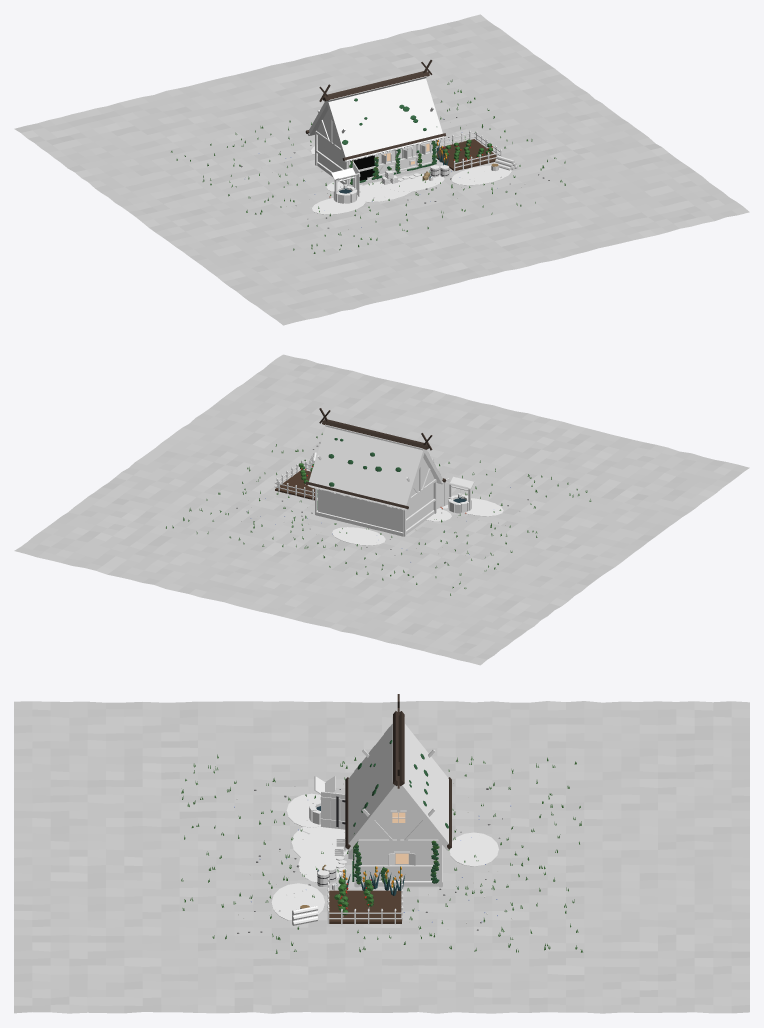
File: farmhouse.glb
3 views of the same model, one above another, from view 1: azimuth 30°, elevation 25°; view 2: azimuth 150°, elevation 25°; view 3: azimuth 270°, elevation 25° (orthographic). The views are drawn at different scales.
Visible parts, largest first — view 1: Ground, Roof, House, Garden, Props, Grass, Well; view 2: Ground, Roof, House, Garden, Grass, Well; view 3: Ground, Roof, House, Garden, Grass, Props, BarnDoor, Vines, Well.
Part boxes in pixels (x1,y1,x2,y2): Ground: (14, 14, 749, 325); Roof: (305, 60, 445, 162); House: (315, 107, 436, 186); Garden: (436, 130, 501, 171); Props: (240, 117, 549, 229); Grass: (171, 79, 565, 253); Well: (331, 167, 359, 203); Ground: (14, 354, 749, 665); Roof: (305, 408, 446, 510); House: (315, 455, 436, 536); Garden: (274, 460, 314, 500); Grass: (166, 433, 591, 595); Well: (445, 476, 474, 513); Ground: (14, 701, 749, 1013); Roof: (345, 694, 451, 850); House: (348, 749, 442, 887); Garden: (327, 866, 404, 924); Grass: (181, 754, 582, 953); Props: (234, 783, 512, 933); BarnDoor: (320, 791, 345, 829); Vines: (353, 833, 439, 884); Well: (309, 776, 335, 824).
Bounding box in the file's own units: 44 × 8.47 × 44.
